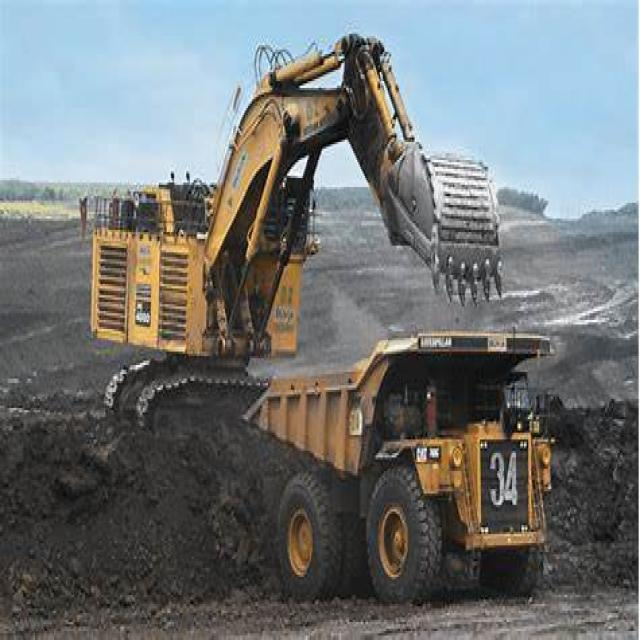dump_truck: (242, 320, 554, 635)
excavator: (78, 32, 505, 462)
